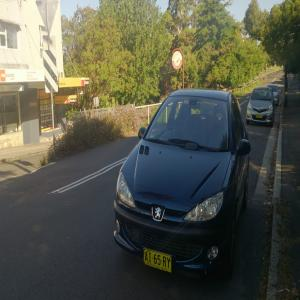Vehicle-registration-plate: (145, 248, 174, 274), (257, 115, 263, 119)
